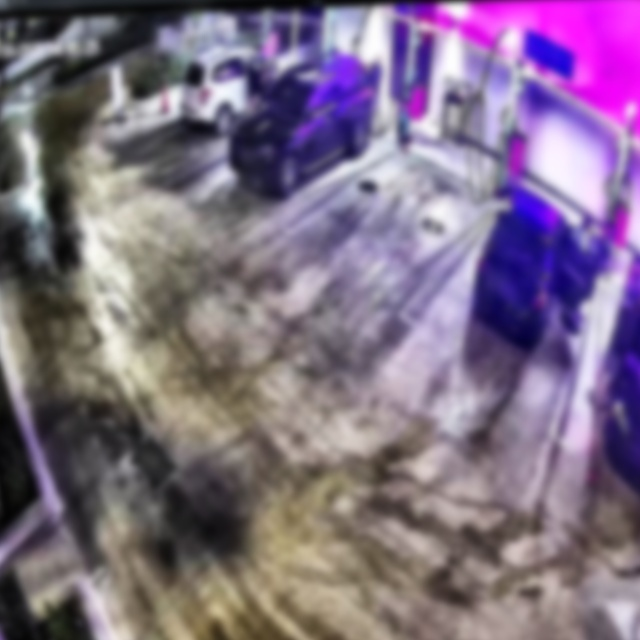Car: (472, 180, 601, 347), (229, 53, 377, 197)
